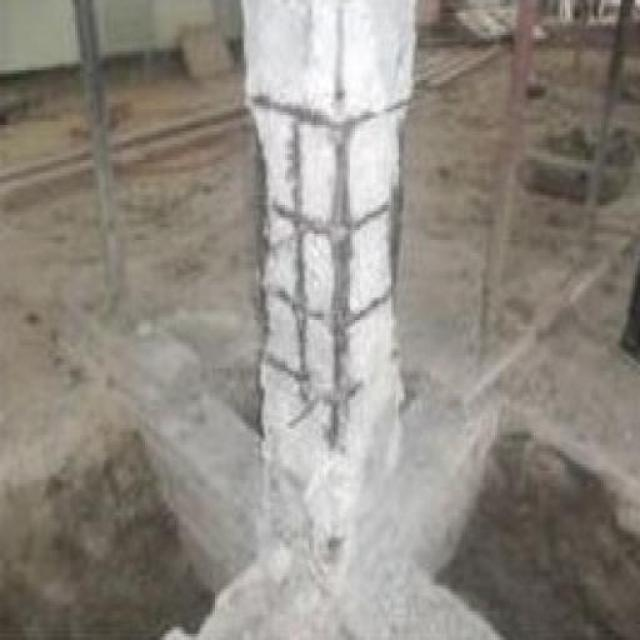D0w0: (250, 95, 409, 448)
